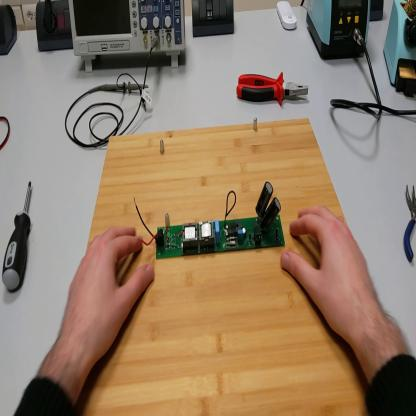hand: (281, 203, 377, 348), (63, 224, 155, 365)
high voltage board: (134, 182, 286, 261)
oscilloscope: (68, 1, 187, 76)
oscilloscope probe tip: (101, 81, 151, 94)
pliers: (233, 68, 308, 108), (404, 185, 416, 266)
screwdriver-: (3, 179, 34, 293)
socket: (35, 2, 75, 54), (2, 5, 17, 55), (369, 2, 385, 21)
welder base: (384, 2, 416, 101)
welder probe tip: (409, 17, 416, 51)
welder station: (307, 1, 371, 62)
working area: (73, 119, 373, 414)
